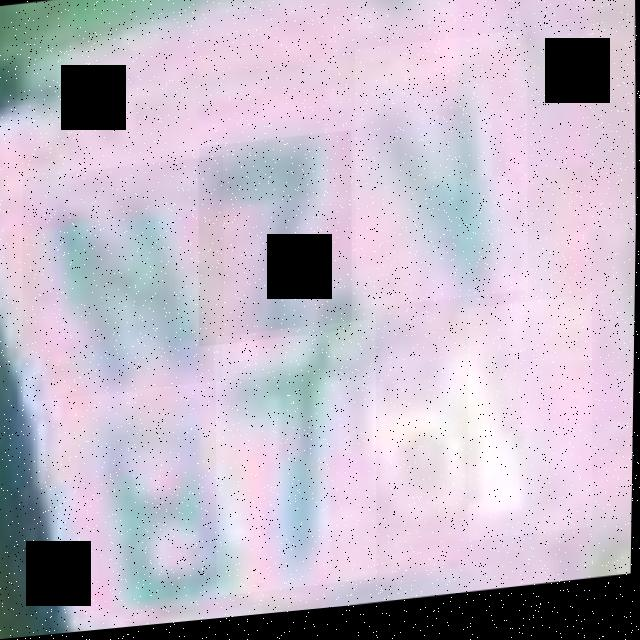6: (466, 305, 596, 550)
7: (213, 326, 381, 601)
8: (94, 382, 249, 628)
B: (20, 160, 227, 403), (352, 40, 532, 317)
Z: (197, 136, 355, 351)
